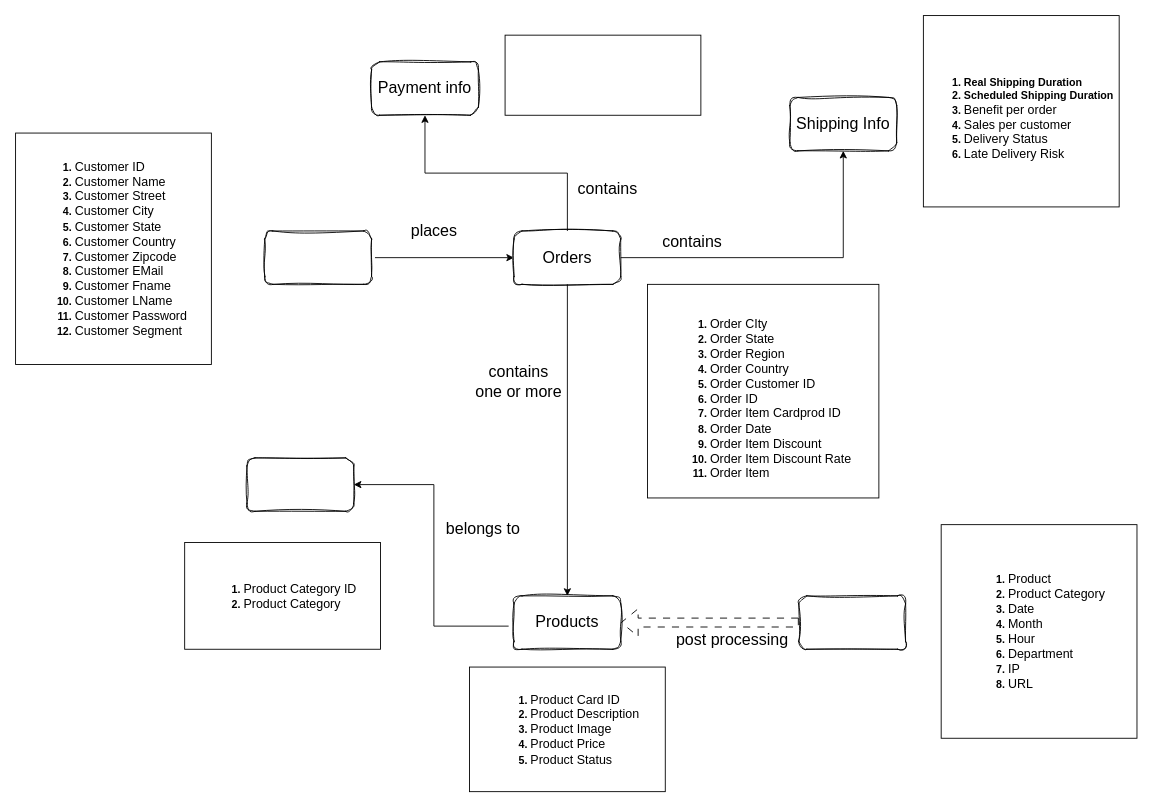
Image size: 1153x807. Some labels were removed from this diagram. The box of each missing label's shape, as (x1, y1, x2, y2) in pixels:
Click Stream Logs: (798, 595, 906, 649)
Customer: (264, 230, 372, 284)
Payment Type: (504, 34, 701, 115)
Product Category: (246, 457, 354, 511)
